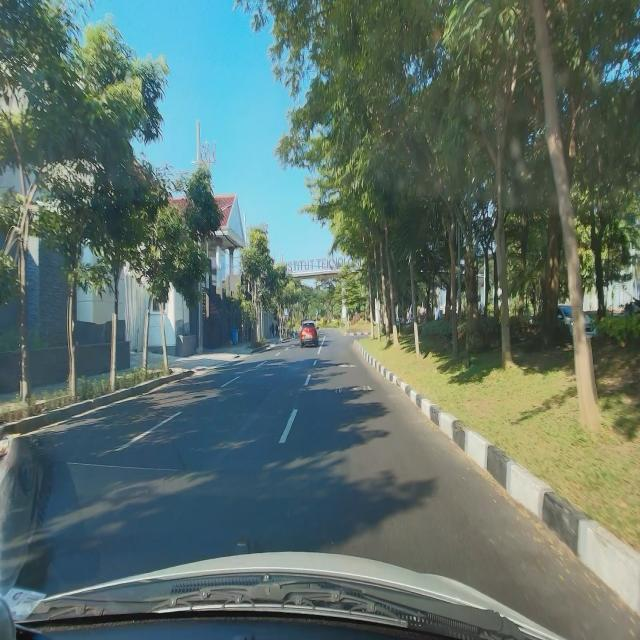car: (300, 322, 319, 348)
